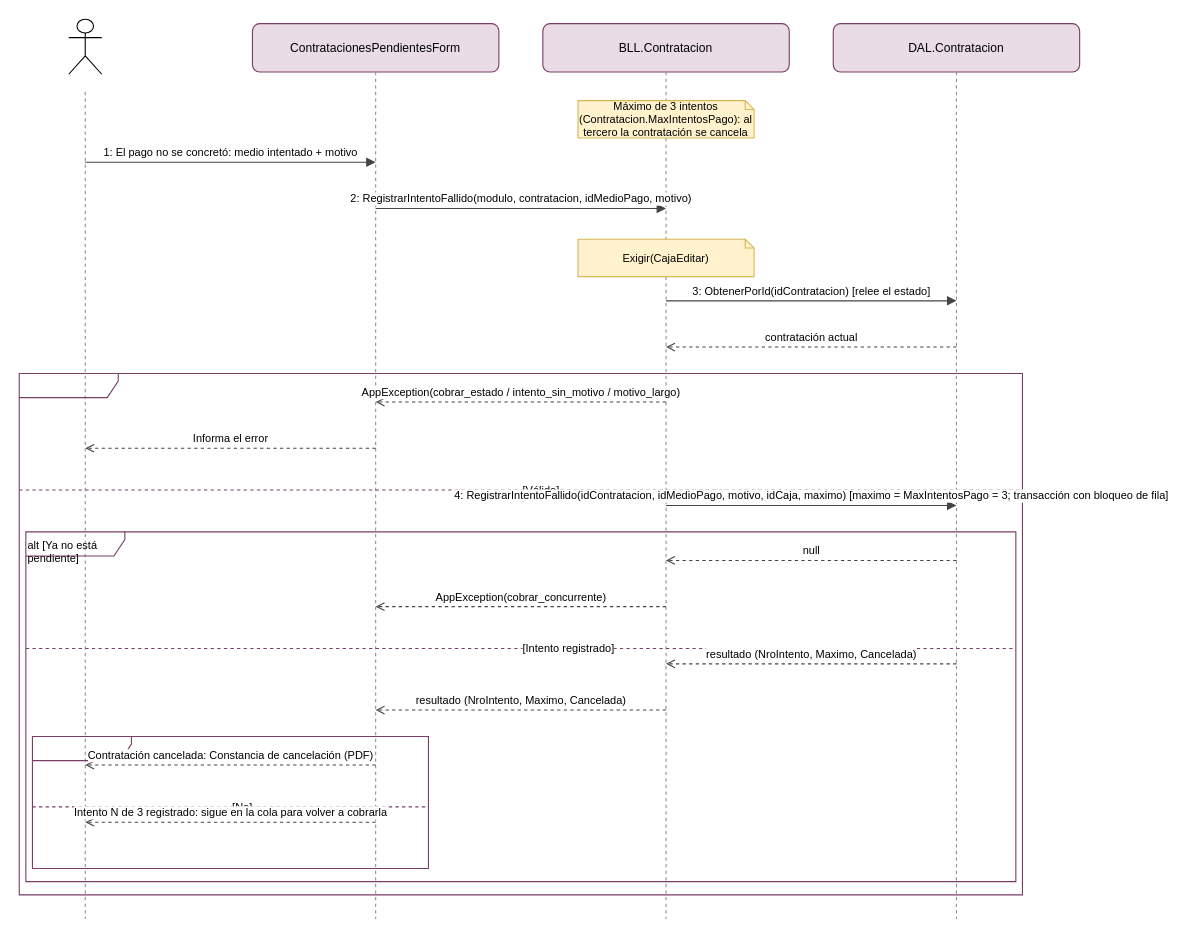
The diagram is 1187 pixels wide and 939 high, and some of its shapes have lost their labels. The box of each missing label's shape, as (x1, y1, x2, y2) in pixels:
alt [No está pendiente o falta el motivo]: (18, 372, 1022, 895)
alt [¿Alcanzó el máximo? Sí (Cancelada)]: (31, 735, 428, 868)
Caja: (68, 18, 102, 74)
